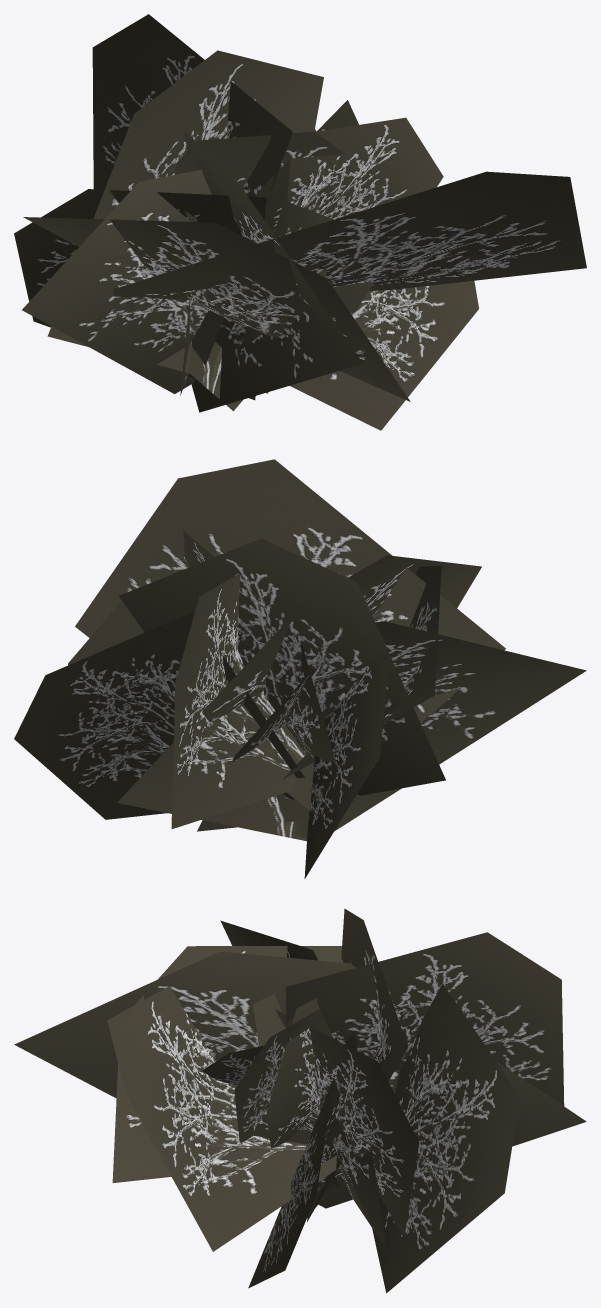
Rendered from winterBush2.fbx.
The picture shows the model from 3 angles, top to bottom: view 1: azimuth 30°, elevation 25°; view 2: azimuth 150°, elevation 25°; view 3: azimuth 270°, elevation 25°; orthographic projection. The views are drawn at different scales.
Visible parts, largest first — view 1: Winter_Trees_Branches.001; view 2: Winter_Trees_Branches.001; view 3: Winter_Trees_Branches.001.
Part boxes in pixels (x1=…): Winter_Trees_Branches.001: x1=14, y1=14, x2=586, y2=430; Winter_Trees_Branches.001: x1=14, y1=459, x2=586, y2=878; Winter_Trees_Branches.001: x1=14, y1=909, x2=586, y2=1293.
Bounding box in the file's own units: 722 × 440 × 704.
